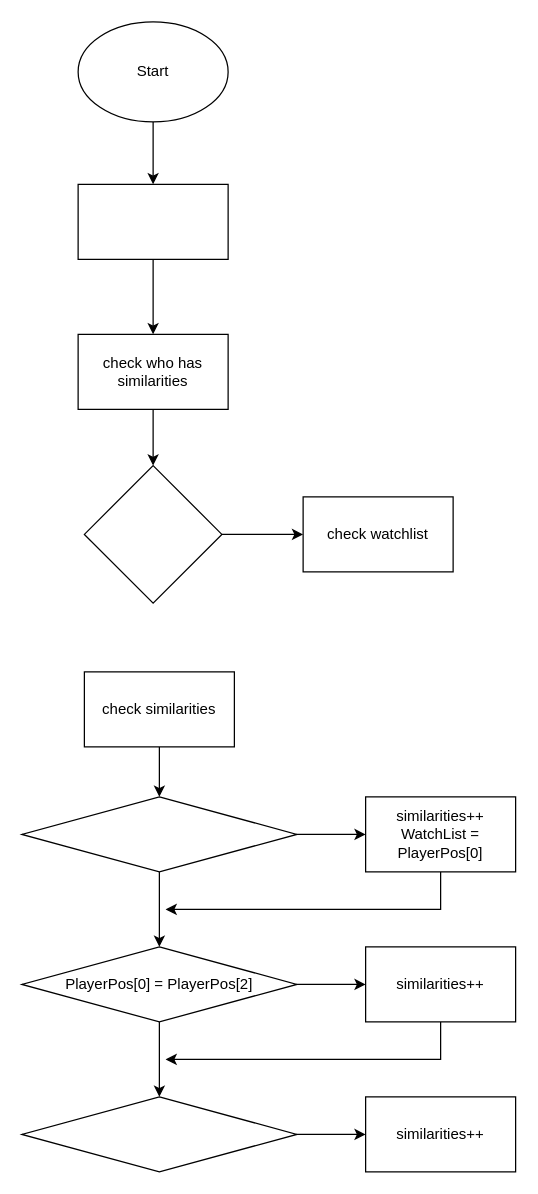
This 538x1194 diagram has some shape labels left out. Here are the shapes that lost their labels. From the top down, the centre of each, then its label:
point 152,221: int PlayerPos[4] char int
point 152,533: if similarity = 1
point 159,834: PlayerPos[0] = PlayerPos[1]
point 159,1134: PlayerPos[0] = PlayerPos[3]
